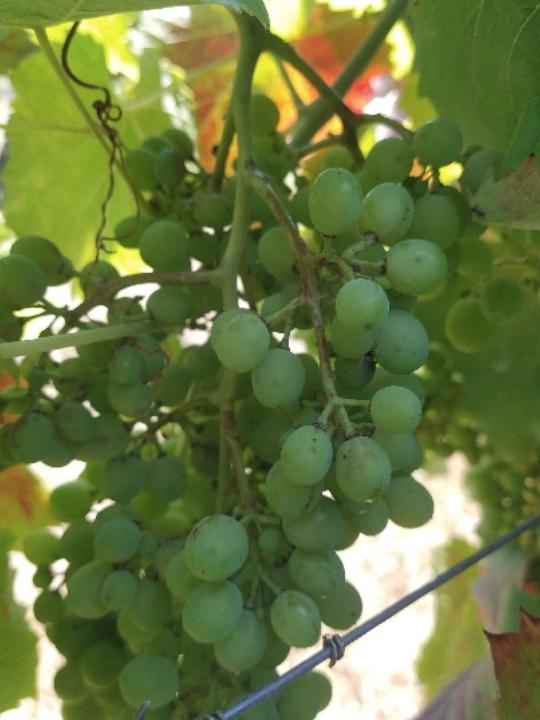grape: (0, 89, 540, 720)
